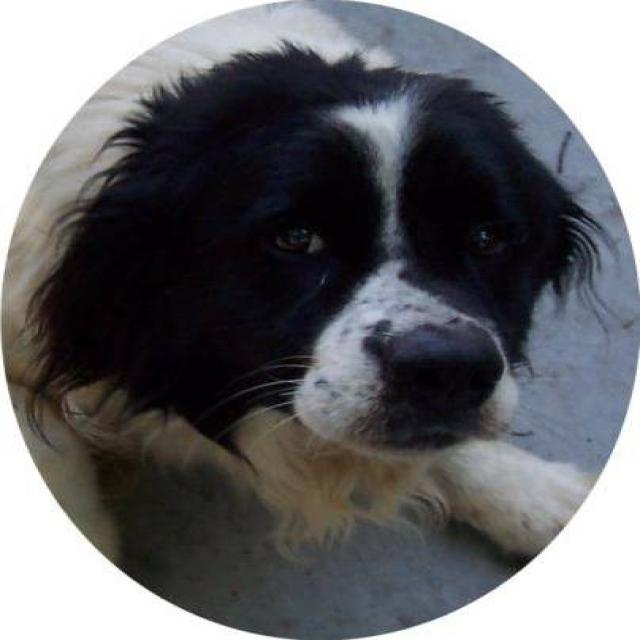dog: (12, 37, 626, 570)
